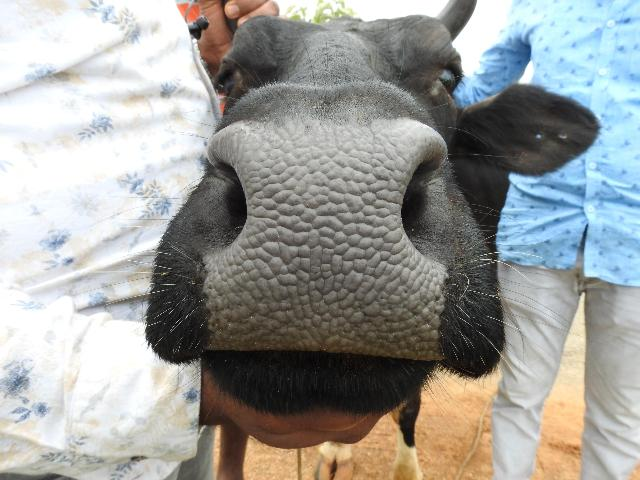Muzzle: (223, 129, 421, 355)
